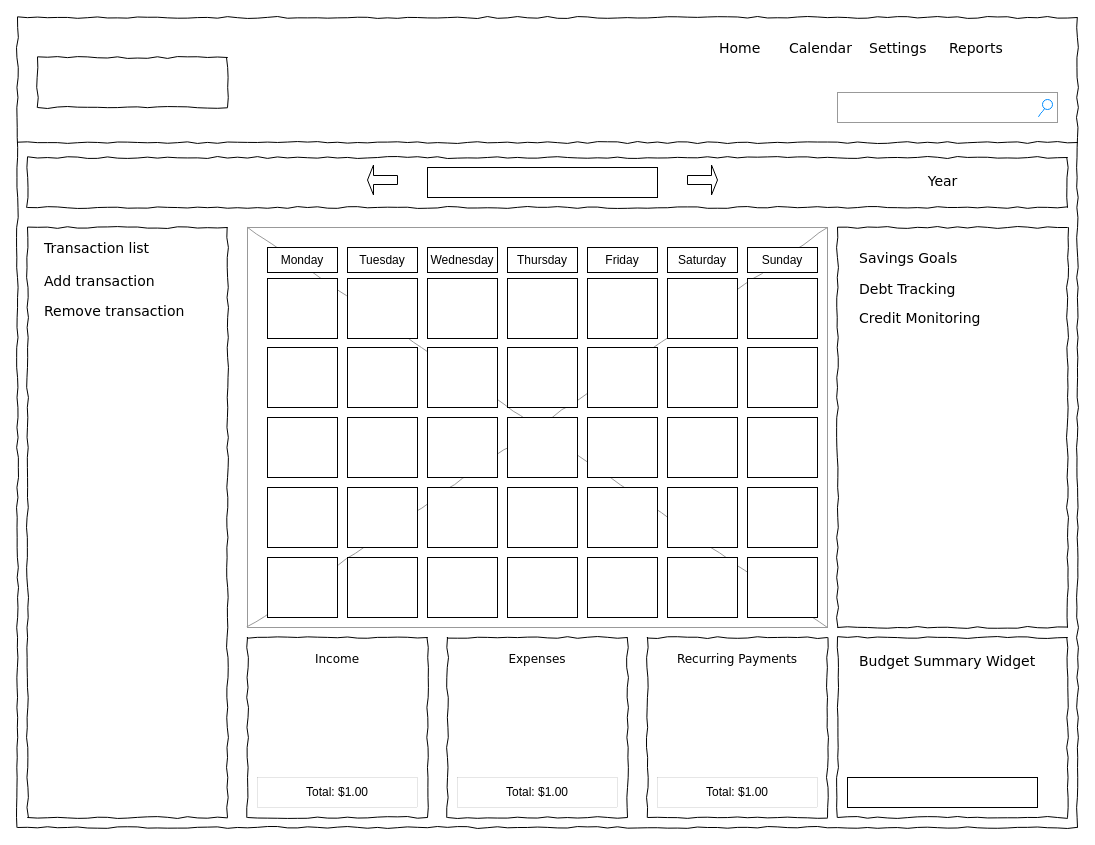
The diagram is 1095 pixels wide and 845 high, and some of its shapes have lost their labels. The centre of each missing label's shape, as x and y in pixels:
BudgetFlow: point 132,82
January: point 542,182
Monthly Total: $1.00: point 942,792
Search: point 947,107
